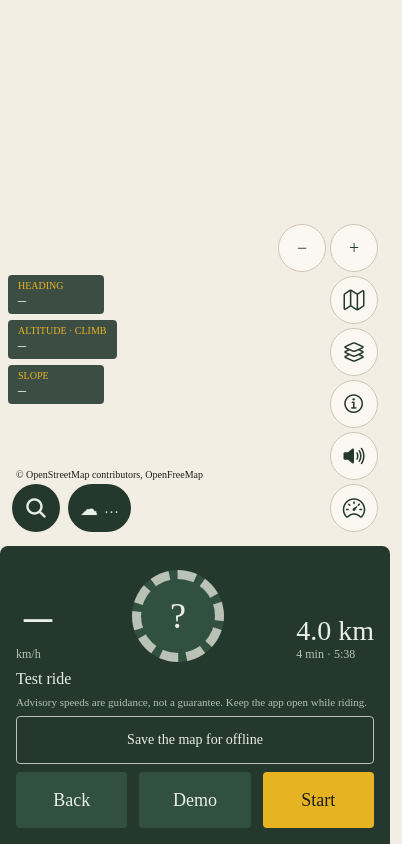
it: off route: the distance, the side to take and an arrow turned towards the line
Click the button "Start". click: (318,800)
box: [263, 772, 374, 828]
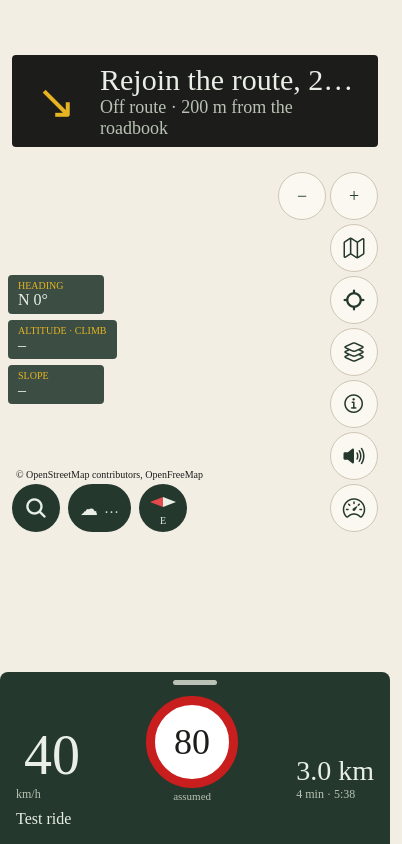
Now the text "Off route · 200 m from the roadbook" is shown, box [100, 97, 297, 138]
Now the text "↘" is shown, box [36, 75, 76, 128]
